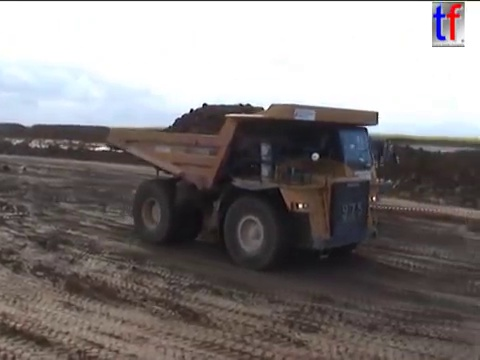truck: (103, 101, 393, 274)
